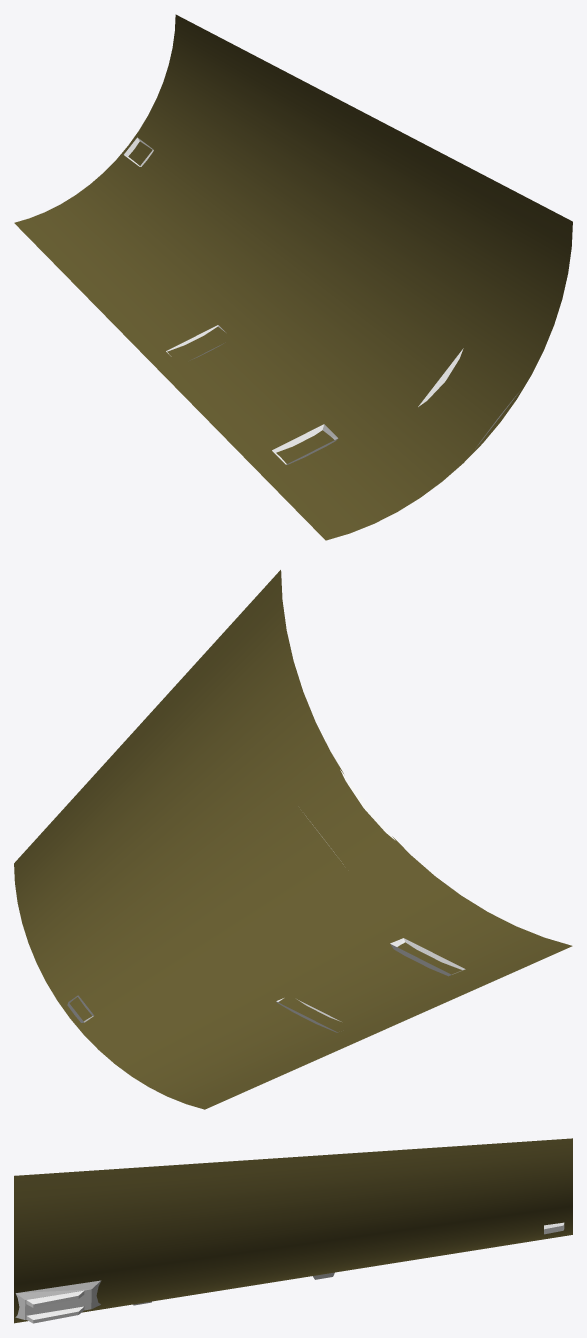
Rendered from sat5stg32.obj.
The picture shows the model from 3 angles, top to bottom: view 1: azimuth 30°, elevation 25°; view 2: azimuth 150°, elevation 25°; view 3: azimuth 270°, elevation 25°; orthographic projection. The views are drawn at different scales.
Visible parts, largest first — view 1: group0; view 2: group0; view 3: group0, group55, group59, group60, group56.
Boxes of the visible parts, x1,y1,x2,y2 form: group0: [14, 14, 572, 540]; group0: [14, 570, 572, 1109]; group0: [14, 1138, 572, 1323]; group55: [26, 1289, 91, 1319]; group59: [16, 1280, 100, 1293]; group60: [16, 1289, 90, 1299]; group56: [25, 1289, 90, 1319].
Bounding box in the file's own units: 2.99 × 2.99 × 6.53.
